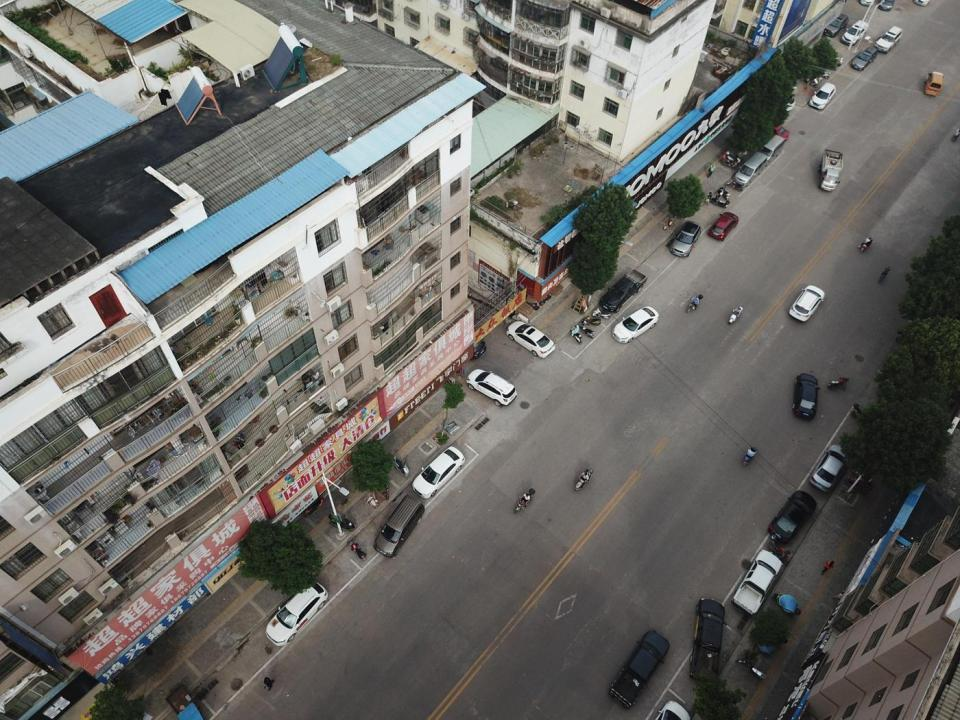car: (266, 580, 329, 646), (764, 489, 816, 544), (412, 446, 466, 498), (466, 368, 517, 408), (809, 443, 849, 492), (506, 320, 555, 357), (612, 305, 659, 342), (441, 328, 486, 359), (788, 285, 825, 321), (792, 372, 818, 419), (670, 219, 700, 258), (709, 211, 739, 242), (809, 82, 836, 110), (758, 119, 790, 142), (875, 25, 902, 52), (840, 20, 869, 45), (764, 88, 796, 110), (821, 12, 847, 38)
truck: (607, 629, 669, 707), (733, 550, 782, 614), (689, 597, 725, 681), (600, 268, 648, 311), (818, 149, 843, 191)
van: (374, 494, 425, 559), (736, 152, 766, 187), (761, 134, 785, 164), (851, 46, 877, 71)
